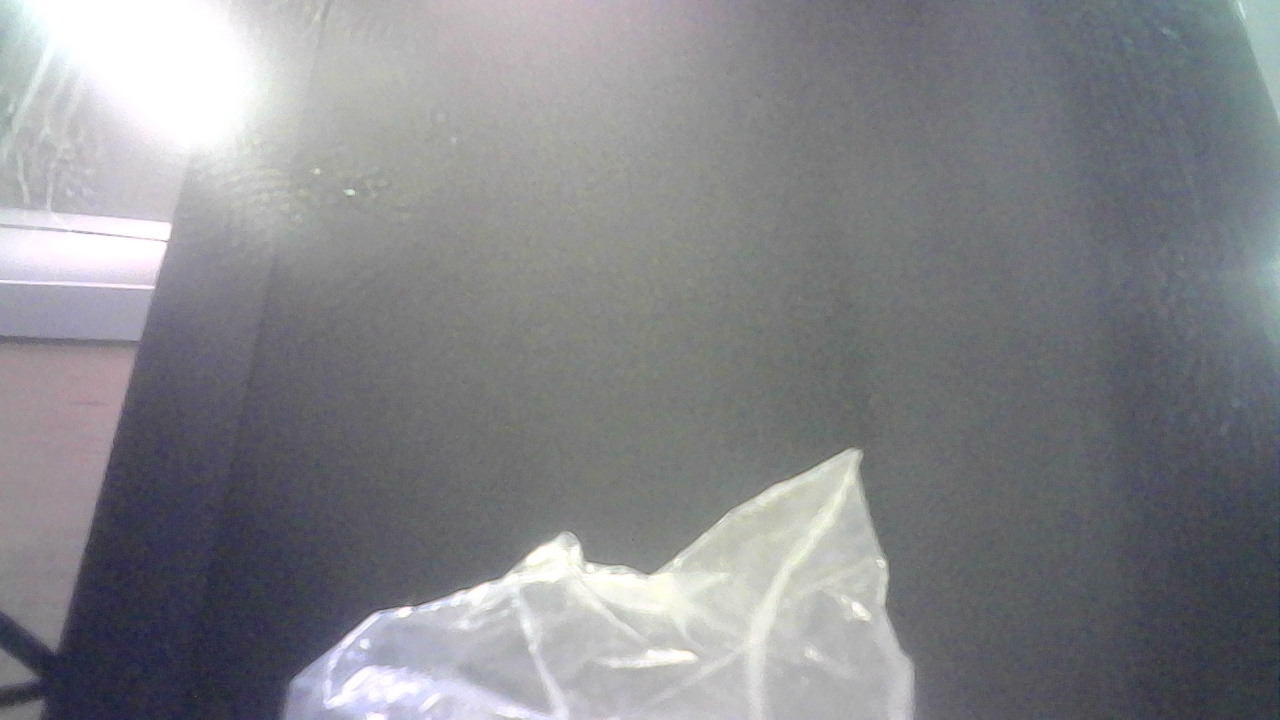Plastic_Recycling: (274, 453, 930, 720)
